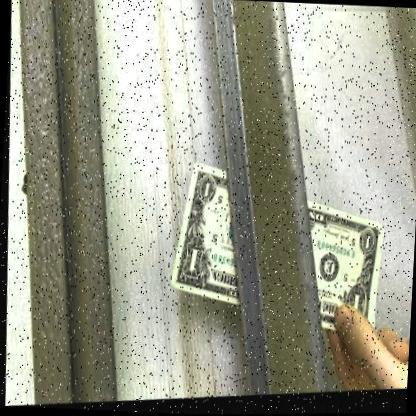dollar_front: (166, 164, 383, 345)
